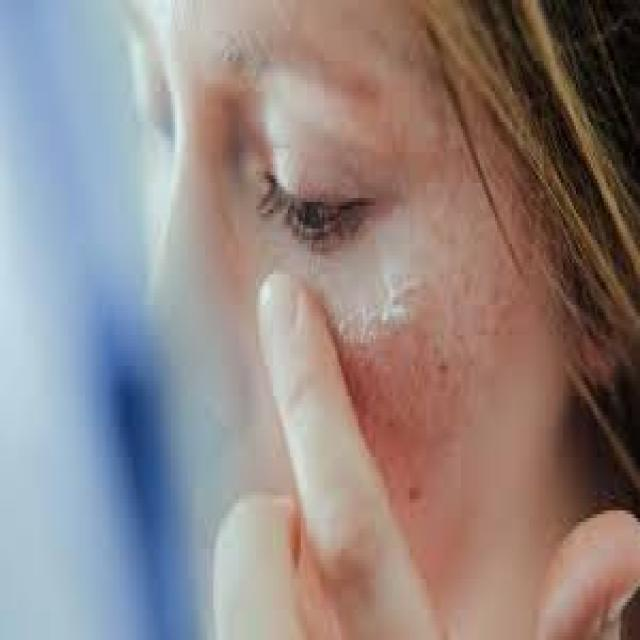Eczema: (320, 336, 462, 518)
